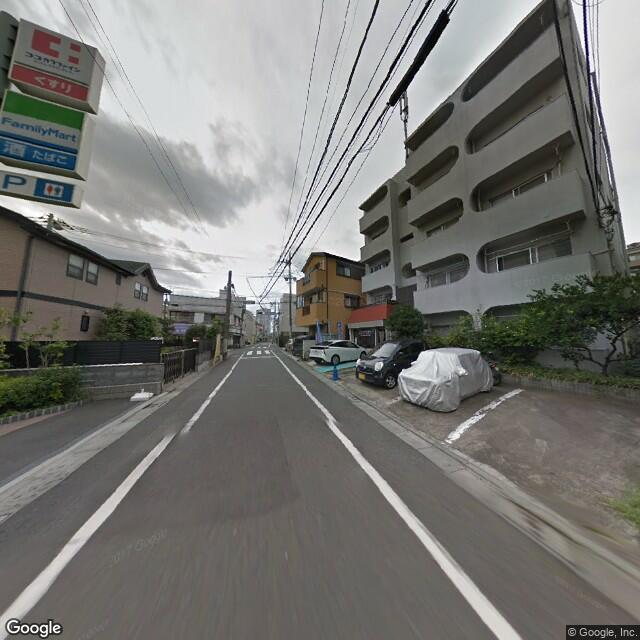family_mart: (1, 90, 85, 166)
